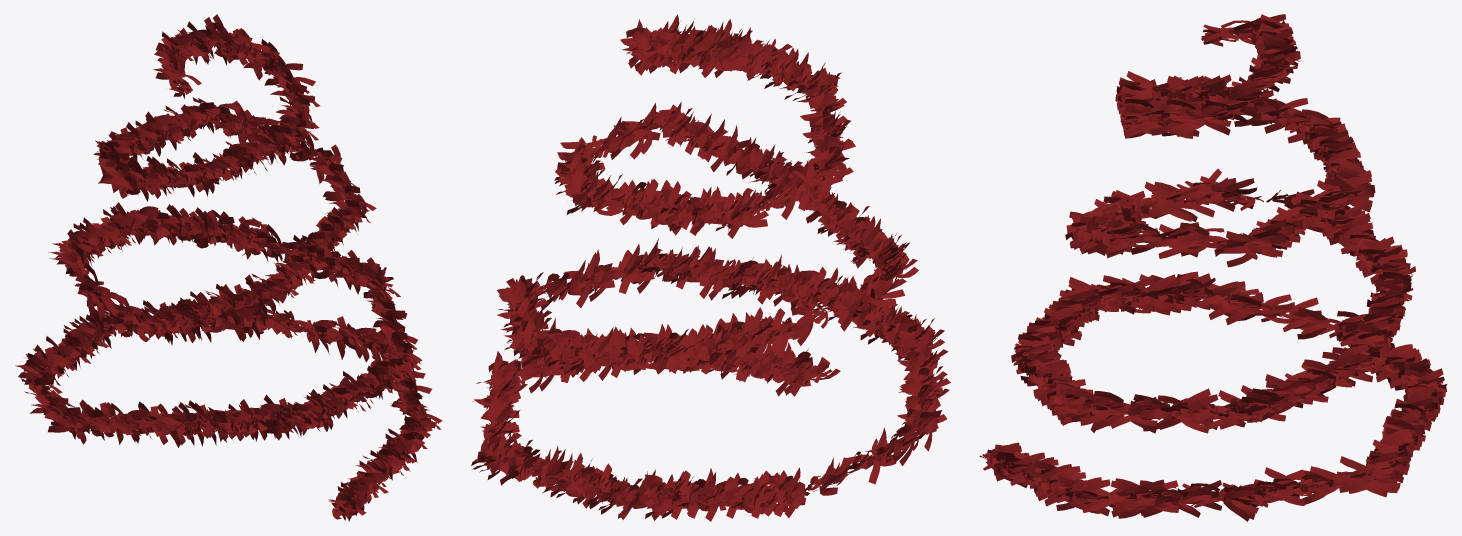
Rendered from Garland.fbx.
3 views of the same model, side by side, from view 1: azimuth 30°, elevation 25°; view 2: azimuth 150°, elevation 25°; view 3: azimuth 270°, elevation 25° (orthographic). The views are drawn at different scales.
Parts seen in each view (by area): view 1: no part large enough to name; view 2: no part large enough to name; view 3: G_String1.452, G_String1.1716, G_String1.1725.
Boxes of the visible parts, x1,y1,x2,y2 form: G_String1.452: [1223, 231, 1256, 267]; G_String1.1716: [1337, 456, 1369, 492]; G_String1.1725: [1223, 489, 1256, 521].
Size of the model in its own units: 2.71 by 2.86 by 2.76.
